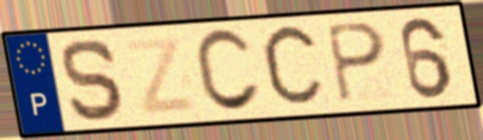6: (398, 14, 455, 102)
C: (191, 26, 265, 117), (258, 19, 328, 114)
P: (322, 20, 389, 106)
S: (59, 36, 130, 123)
Z: (122, 33, 200, 118)
